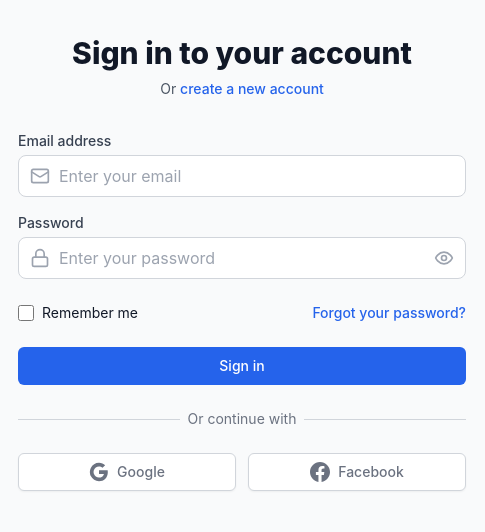
Scenario: Login Page › validates required fields
This screenshot has width=485, height=532.
Click the button "Sign in": (242, 366) [18, 347, 466, 385]
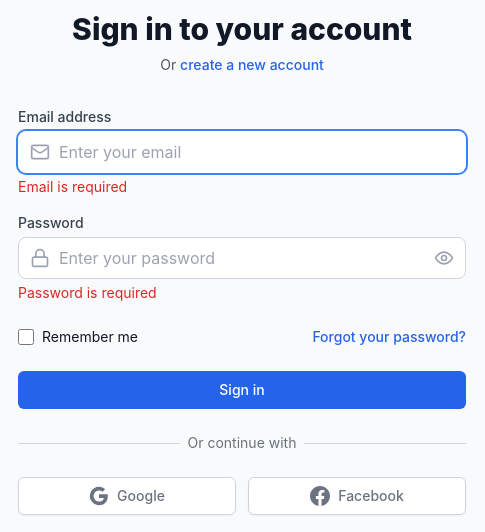
expect the text "Email is required" is shown: met, box [18, 178, 127, 195]
expect the text "Password is required" is shown: met, box [18, 284, 157, 301]
